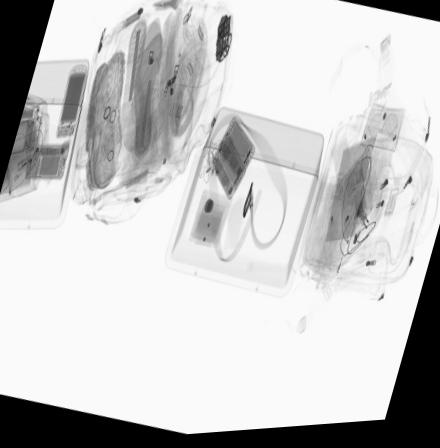Lighter: (13, 153, 33, 182)
